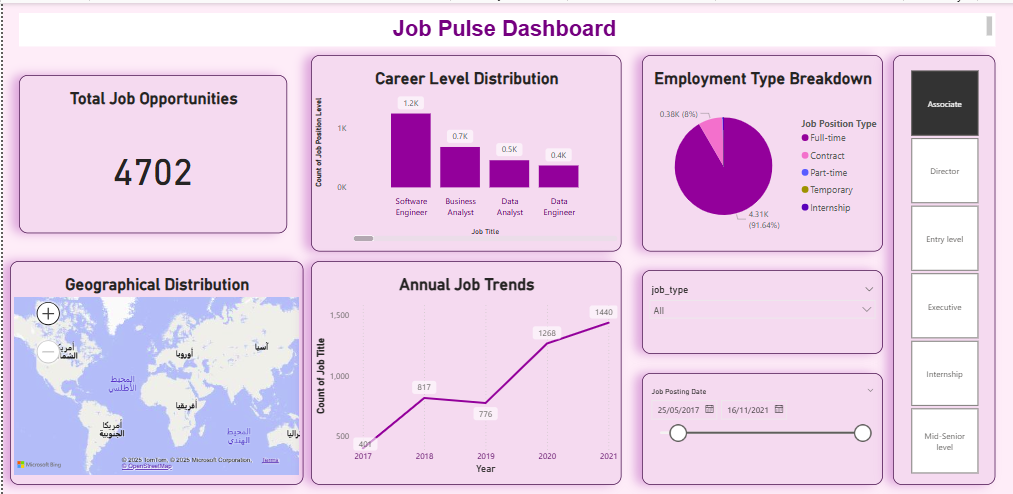

Layout of this report page (visuals, bound fields, positions):
{"tool":"powerbi","page":{"name":"Dashboard","canvas":[1480,721],"ordinal":0},"visuals":[{"type":"card","title":"Total Job Opportunities","fields":{"Values":["Wuzzuf-Jobs-cleaned.total posting"]},"box":[23.9,105,393.1,232.3],"z":0},{"type":"clusteredColumnChart","title":"Career Level Distribution","fields":{"Category":["Wuzzuf-Jobs-cleaned.Job Title"],"Y":["CountNonNull(Wuzzuf-Jobs-cleaned.Job Position Level)"]},"box":[452,76.4,455.1,288],"z":1000},{"type":"pieChart","title":"Employment Type Breakdown","fields":{"Category":["Wuzzuf-Jobs-cleaned.Job Position Type"],"Y":["CountNonNull(Wuzzuf-Jobs-cleaned.Job Posting ID)"]},"box":[935.7,76.4,353.3,288],"z":2000},{"type":"map","title":"Geographical Distribution","fields":{"Category":["Wuzzuf-Jobs-cleaned.Job Location"]},"box":[9.5,378.8,429.7,327.8],"z":3000},{"type":"lineChart","title":"Annual Job Trends","fields":{"Category":["Wuzzuf-Jobs-cleaned.Job Posting Date.Variation.Date Hierarchy.Year","Wuzzuf-Jobs-cleaned.Job Posting Date.Variation.Date Hierarchy.Quarter","Wuzzuf-Jobs-cleaned.Job Posting Date.Variation.Date Hierarchy.Month","Wuzzuf-Jobs-cleaned.Job Posting Date.Variation.Date Hierarchy.Day"],"Y":["CountNonNull(Wuzzuf-Jobs-cleaned.Job Title)"]},"box":[452,378.8,455.1,327.8],"z":4000},{"type":"slicer","fields":{"Values":["Job_type.job_type"]},"box":[935.7,391.5,353.3,122.5],"z":5000},{"type":"slicer","fields":{"Values":["Wuzzuf-Jobs-cleaned.Job Position Level"]},"box":[1304.9,76.4,149.6,630.2],"z":6000},{"type":"slicer","fields":{"Values":["Wuzzuf-Jobs-cleaned.Job Posting Date"]},"box":[935.7,542.7,353.3,163.9],"z":7000},{"type":"textbox","box":[23.6,13.3,1431.3,51.7],"z":8000}]}

Visuals, with their boxes in screenshot pixels (x1, y1, x2, y2), scaled from the page's 1480x721 canvas onto the 1013x494 screenshot:
"Total Job Opportunities" card: {"left": 16, "top": 72, "right": 285, "bottom": 231}
"Career Level Distribution" clusteredColumnChart: {"left": 309, "top": 52, "right": 621, "bottom": 250}
"Employment Type Breakdown" pieChart: {"left": 640, "top": 52, "right": 882, "bottom": 250}
"Geographical Distribution" map: {"left": 7, "top": 260, "right": 301, "bottom": 484}
"Annual Job Trends" lineChart: {"left": 309, "top": 260, "right": 621, "bottom": 484}
slicer - Job_type.job_type: {"left": 640, "top": 268, "right": 882, "bottom": 352}
slicer - Wuzzuf-Jobs-cleaned.Job Position Level: {"left": 893, "top": 52, "right": 996, "bottom": 484}
slicer - Wuzzuf-Jobs-cleaned.Job Posting Date: {"left": 640, "top": 372, "right": 882, "bottom": 484}
textbox: {"left": 16, "top": 9, "right": 996, "bottom": 45}
